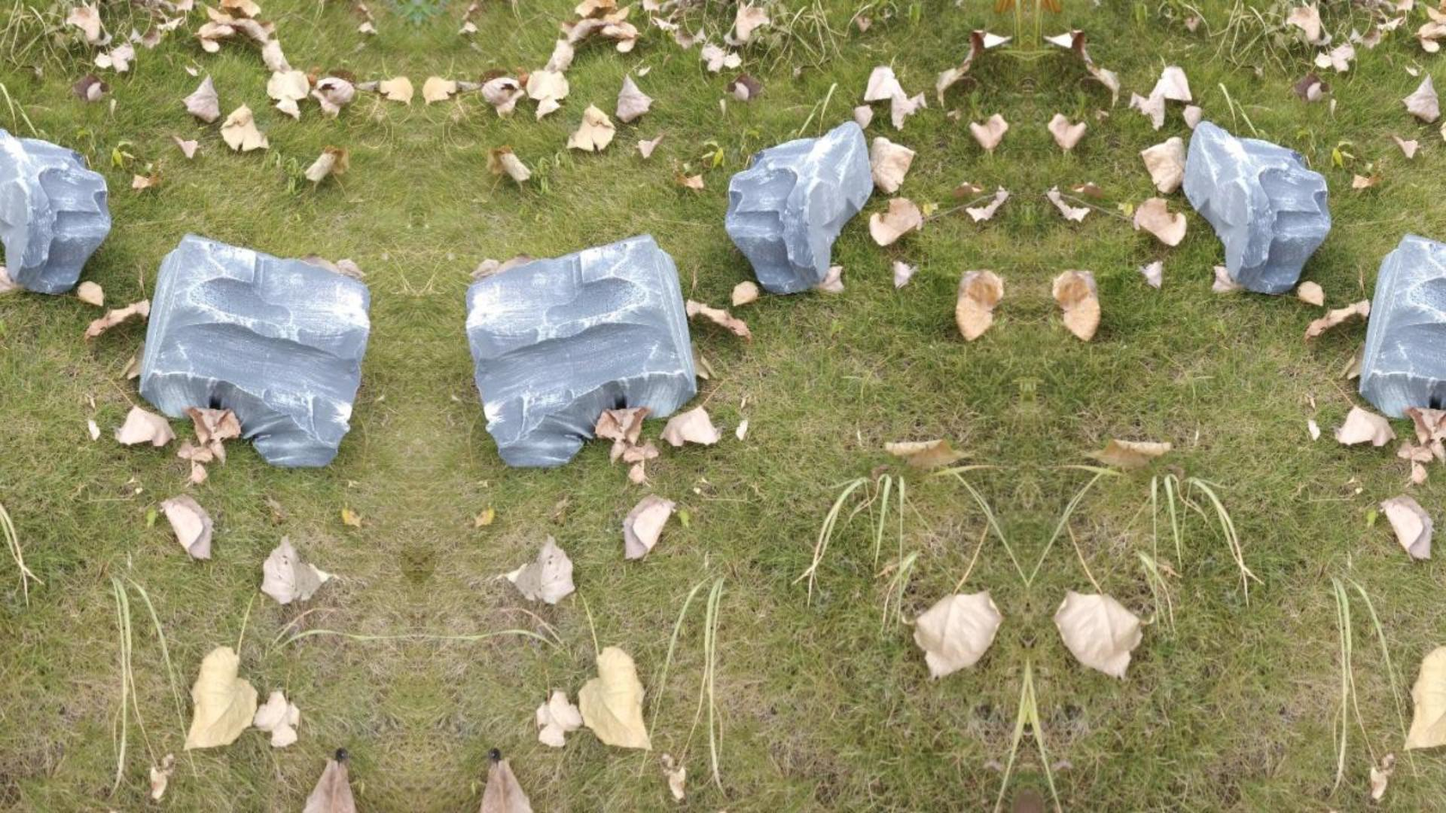rock: (139, 234, 369, 465), (465, 235, 695, 465), (1183, 121, 1330, 292), (725, 121, 871, 292), (0, 129, 110, 292), (1359, 234, 1445, 417)
